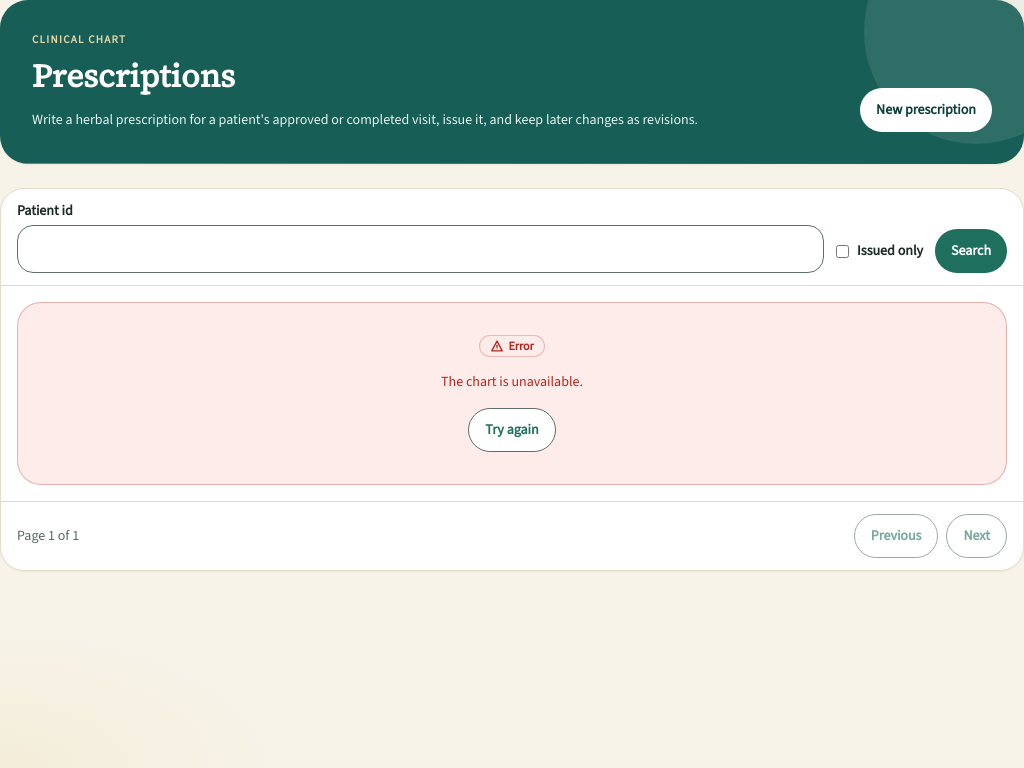
Scenario: PrescriptionsPage › shows an error and retries
Check: the text "The chart is unavailable." is shown, box [441,372,583,391]
Click the button "Try again" at [512, 430], box [468,408,556,452]
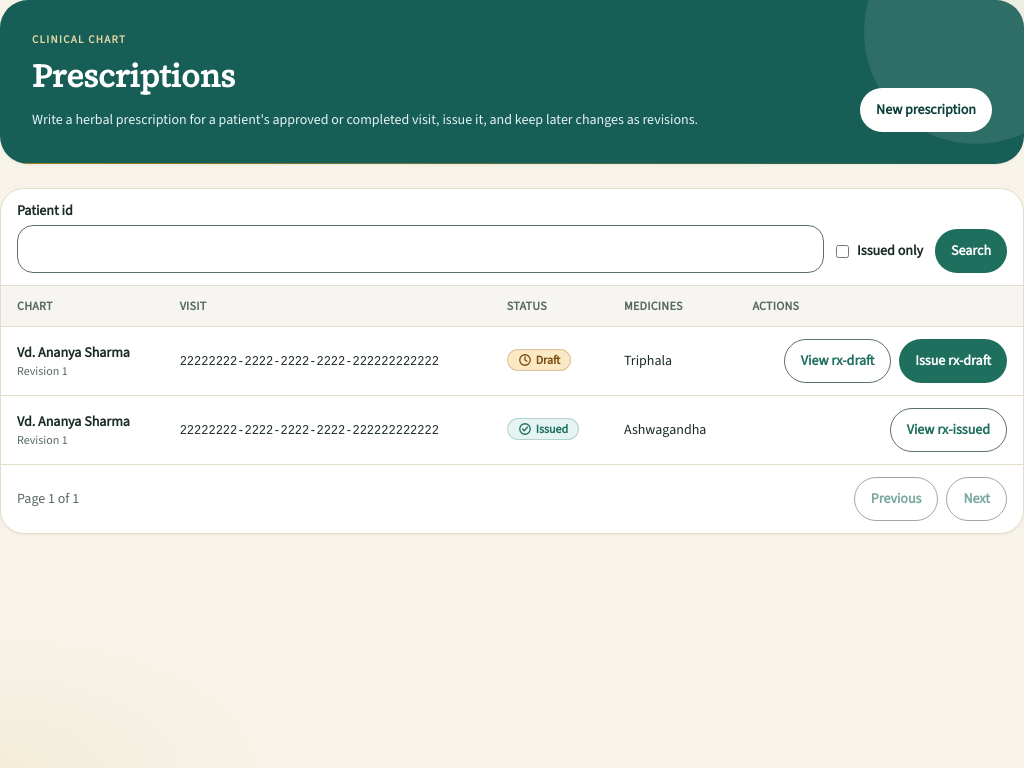
Check: the text "Ashwagandha" is shown, box [608,396,736,464]
